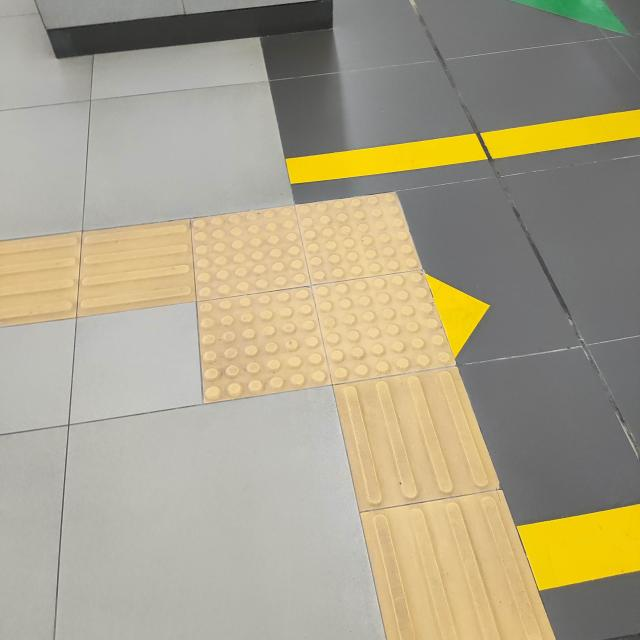kiri: (46, 155, 524, 495)
